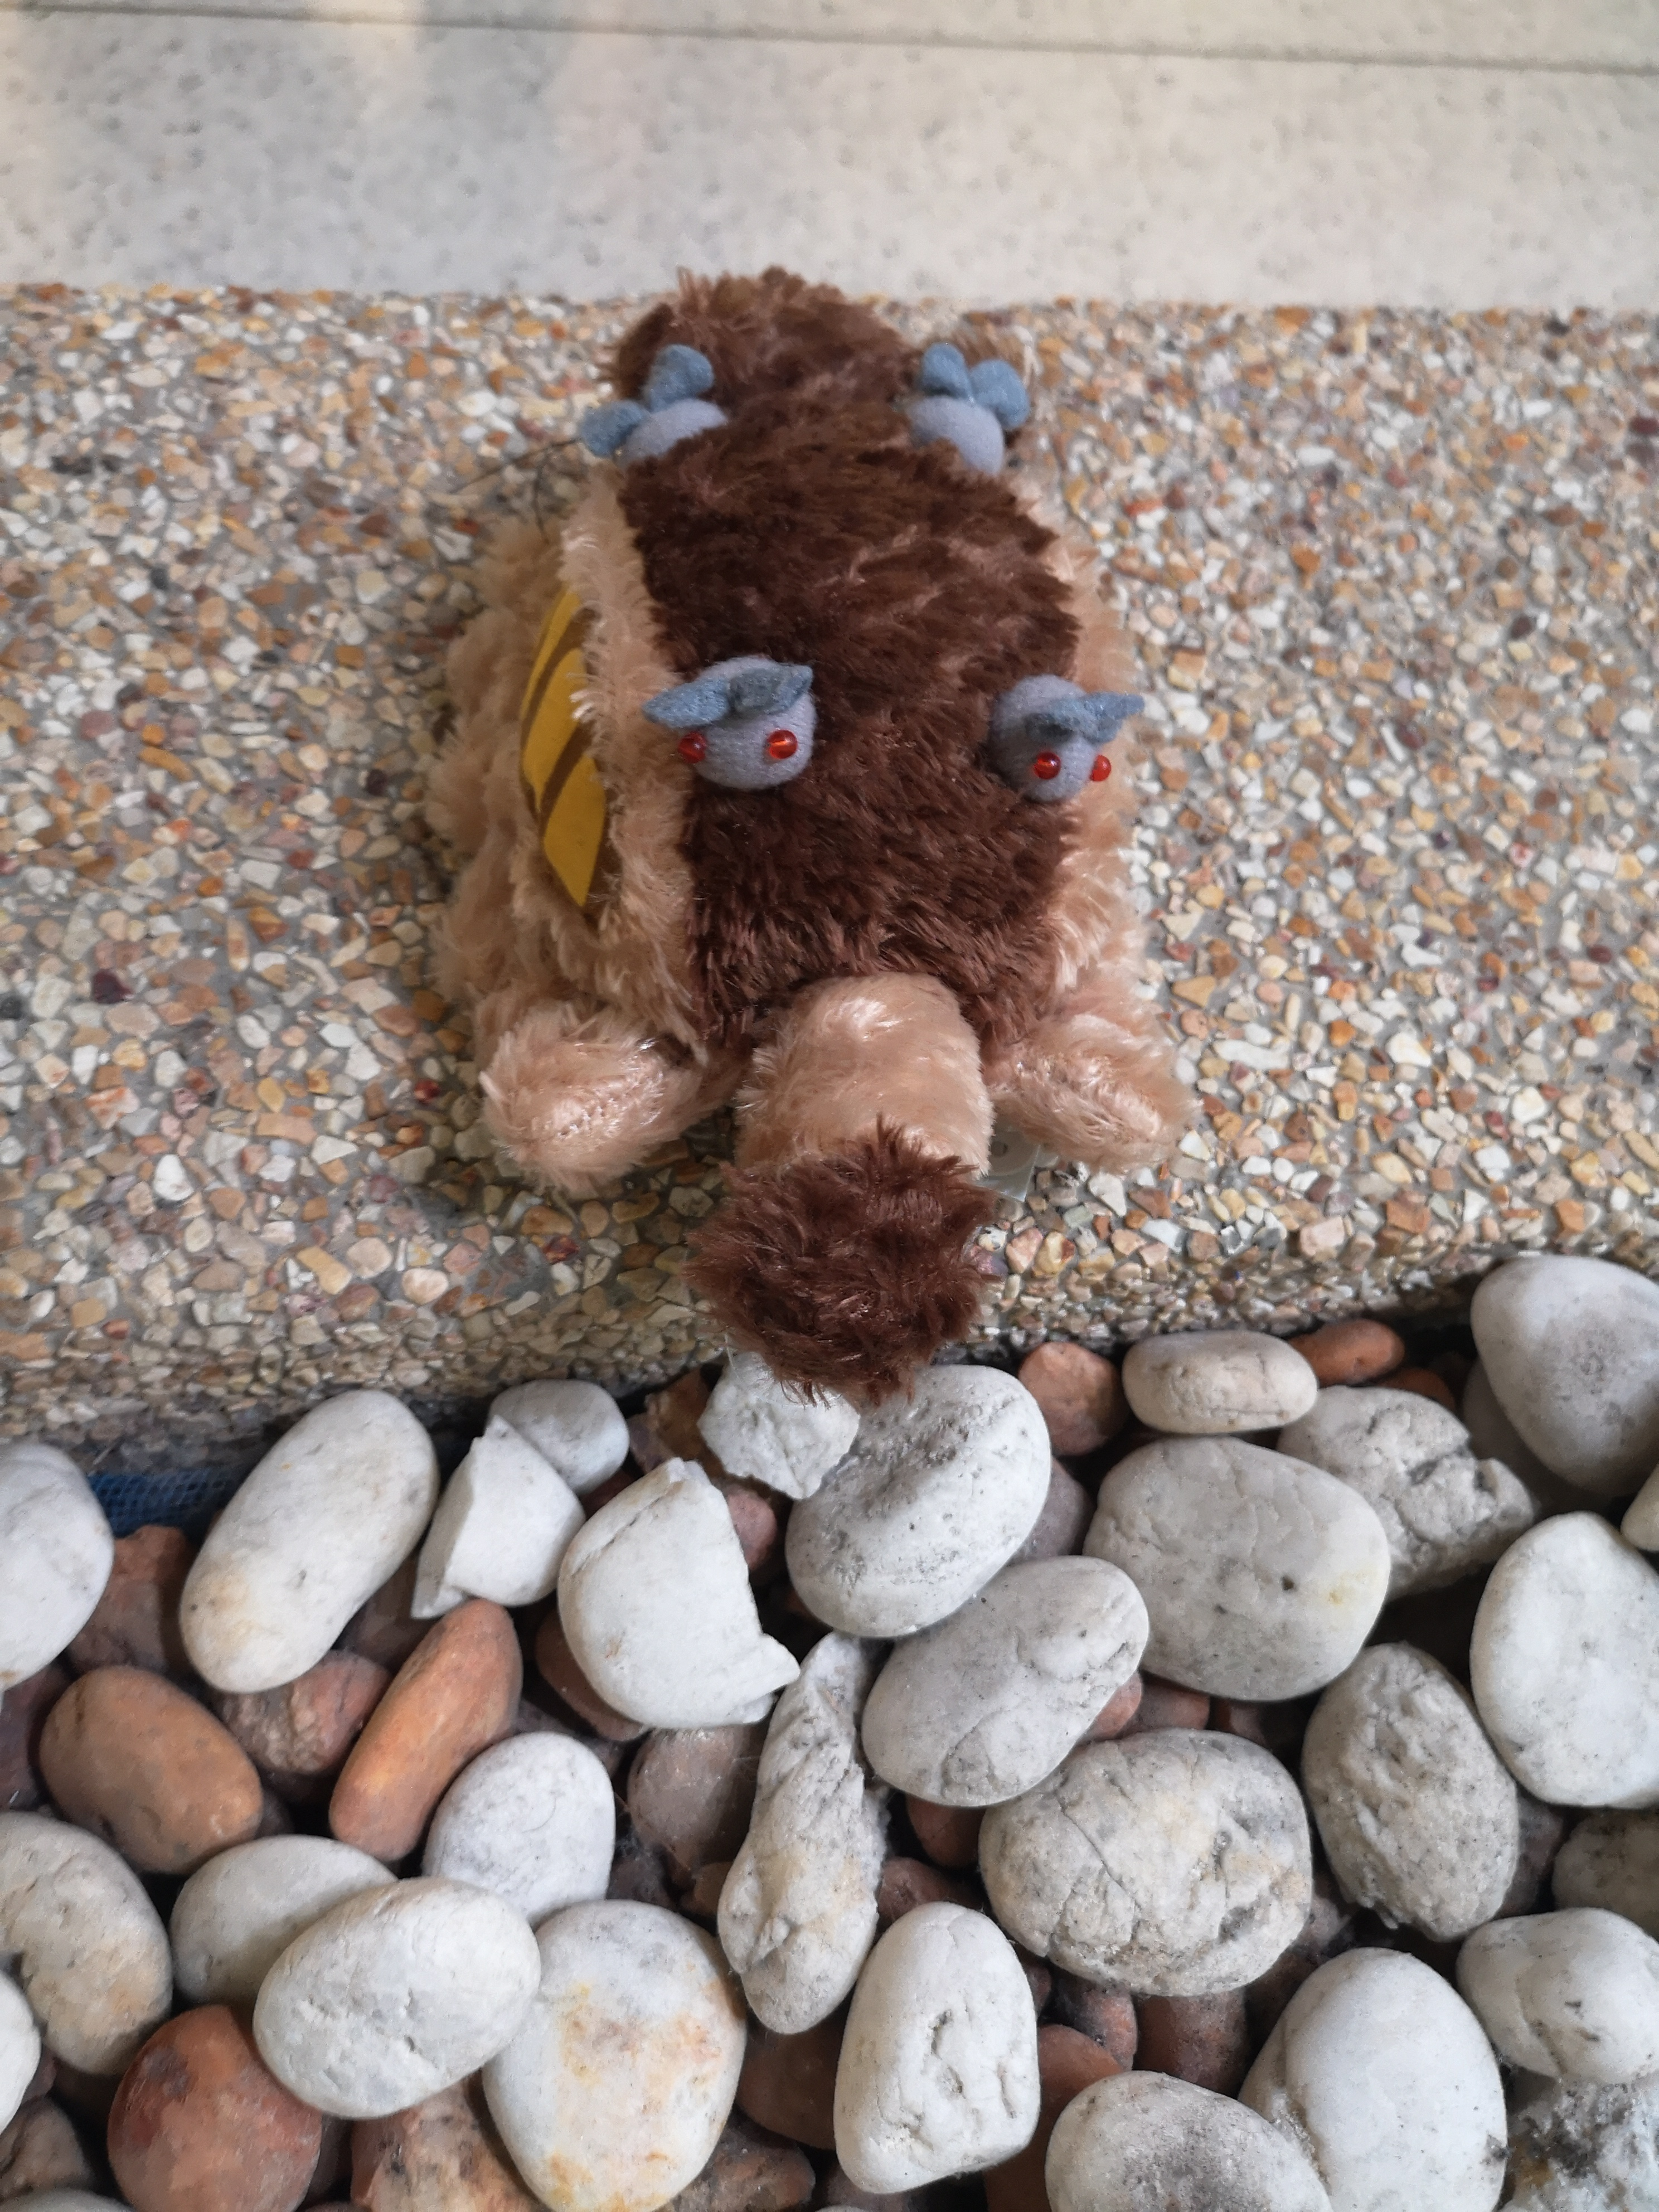nekobus: (401, 263, 1204, 1420)
